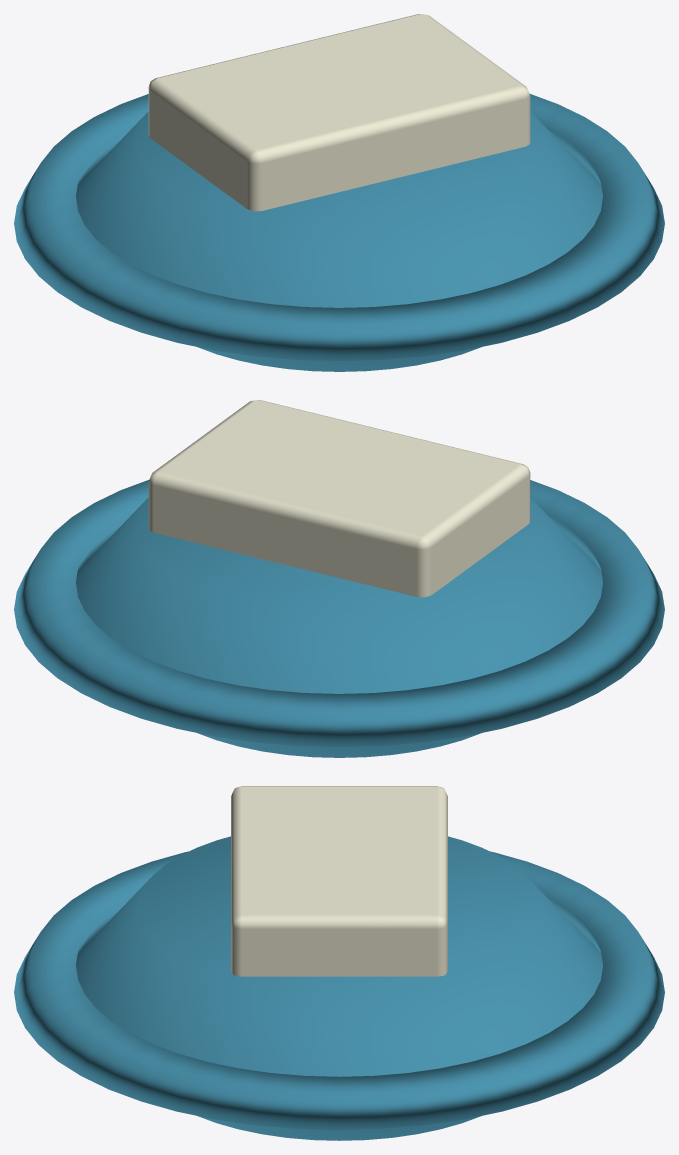
Rendered from fantasy-bathhouse-and-thermal-sanctuary-fantasy-bathho-189cdeee__29466.glb.
3 views of the same model, one above another, from view 1: azimuth 30°, elevation 25°; view 2: azimuth 150°, elevation 25°; view 3: azimuth 270°, elevation 25° (orthographic).
Parts seen in each view (by area): view 1: fantasy-bathhouse-and-thermal-sanctuary-soap-dish; view 2: fantasy-bathhouse-and-thermal-sanctuary-soap-dish; view 3: fantasy-bathhouse-and-thermal-sanctuary-soap-dish.
Boxes of the visible parts, box(x1,y1,x2,y2) form: fantasy-bathhouse-and-thermal-sanctuary-soap-dish: box(14, 14, 664, 371); fantasy-bathhouse-and-thermal-sanctuary-soap-dish: box(14, 400, 664, 757); fantasy-bathhouse-and-thermal-sanctuary-soap-dish: box(14, 786, 664, 1140).
Bounding box in the file's own units: 0.36 × 0.125 × 0.36.
